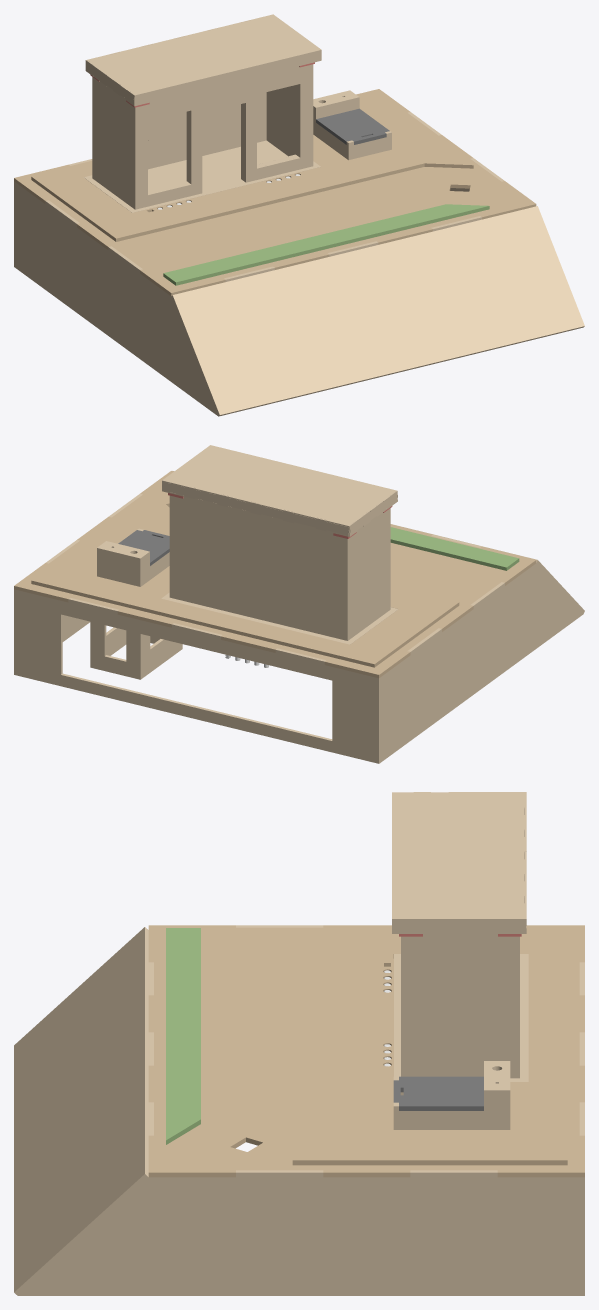
The model's file is safewait.glb.
The picture shows the model from 3 angles, top to bottom: view 1: azimuth 30°, elevation 25°; view 2: azimuth 150°, elevation 25°; view 3: azimuth 270°, elevation 25°; orthographic projection. The views are drawn at different scales.
Parts seen in each view (by area): view 1: logo_11, bastidor_top_0, bastidor_sideR_10, acera_1, techoUp_40, frontOuter_16, detalleGrama_2, backInner_18, PisoHut_41, leftOuter_21, Rooffront_35, leftOuter_34 (+7 smaller); view 2: backOuter_19, bastidor_back_5, bastidor_sideR_10, acera_1, bastidor_top_0, techoUp_40, leftOuter_21, detalleGrama_2, Rooffront_39, under_front_9, poster_13, under_sideR_7 (+10 smaller); view 3: bastidor_sideL_4, bastidor_top_0, logo_11, acera_1, techoUp_40, leftOuter_33, detalleGrama_2, keyboard_46, mod_side2_52, PisoHut_41, Roofside_36, poster_12 (+4 smaller).
Part boxes in pixels (<box>): logo_11: <box>171,206,584,416</box>; bastidor_top_0: <box>14,89,536,296</box>; bastidor_sideR_10: <box>14,181,217,415</box>; acera_1: <box>31,92,473,241</box>; techoUp_40: <box>87,14,320,96</box>; frontOuter_16: <box>143,66,304,207</box>; detalleGrama_2: <box>163,204,489,285</box>; backInner_18: <box>148,92,266,169</box>; PisoHut_41: <box>84,140,320,212</box>; leftOuter_21: <box>97,80,130,205</box>; Rooffront_35: <box>133,51,321,104</box>; leftOuter_34: <box>266,85,295,156</box>; backOuter_19: <box>178,497,339,638</box>; bastidor_back_5: <box>14,590,380,762</box>; bastidor_sideR_10: <box>376,563,583,763</box>; acera_1: <box>31,508,459,667</box>; bastidor_top_0: <box>14,471,536,678</box>; techoUp_40: <box>163,445,396,526</box>; leftOuter_21: <box>352,512,385,636</box>; detalleGrama_2: <box>390,527,519,570</box>; Rooffront_39: <box>162,482,349,535</box>; under_front_9: <box>90,621,142,678</box>; poster_13: <box>339,536,352,640</box>; under_sideR_7: <box>137,634,182,679</box>; bastidor_sideL_4: <box>18,1170,584,1295</box>; bastidor_top_0: <box>148,925,584,1177</box>; logo_11: <box>14,927,148,1295</box>; acera_1: <box>292,928,567,1165</box>; techoUp_40: <box>392,792,526,920</box>; leftOuter_33: <box>414,934,506,1076</box>; detalleGrama_2: <box>166,928,200,1144</box>; keyboard_46: <box>393,1076,483,1110</box>; mod_side2_52: <box>393,1088,510,1129</box>; PisoHut_41: <box>394,954,528,1081</box>; Roofside_36: <box>392,918,526,933</box>; poster_12: <box>401,936,414,1076</box>.
Bounding box in the file's own units: 0.67 × 0.3687 × 0.6542.
